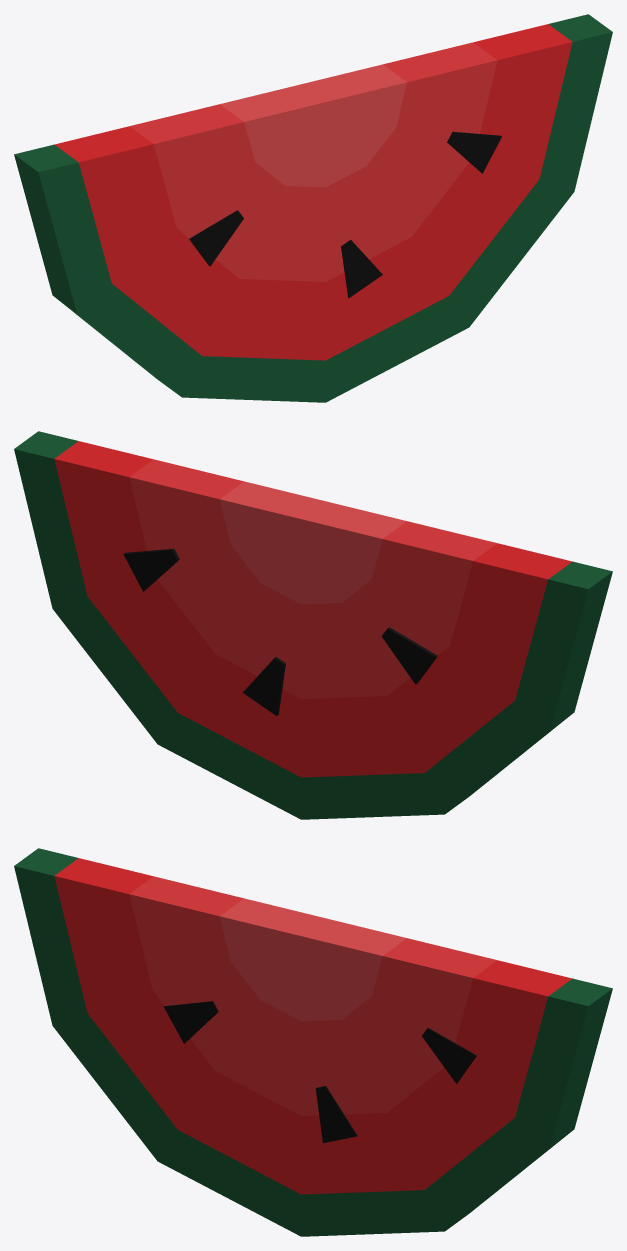
File: Watermelon Half Slice.fbx
3 renders of one model, top to bottom at view 1: azimuth 30°, elevation 25°; view 2: azimuth 150°, elevation 25°; view 3: azimuth 330°, elevation 25°, orthographic.
Visible parts, largest first — view 1: Watermelon Half Slice; view 2: Watermelon Half Slice; view 3: Watermelon Half Slice.
Boxes of the visible parts, x1,y1,x2,y2 form: Watermelon Half Slice: (14, 14, 612, 402); Watermelon Half Slice: (14, 431, 612, 819); Watermelon Half Slice: (14, 848, 612, 1236).
Size of the model in its own units: 22.31 by 11.15 by 1.83.
